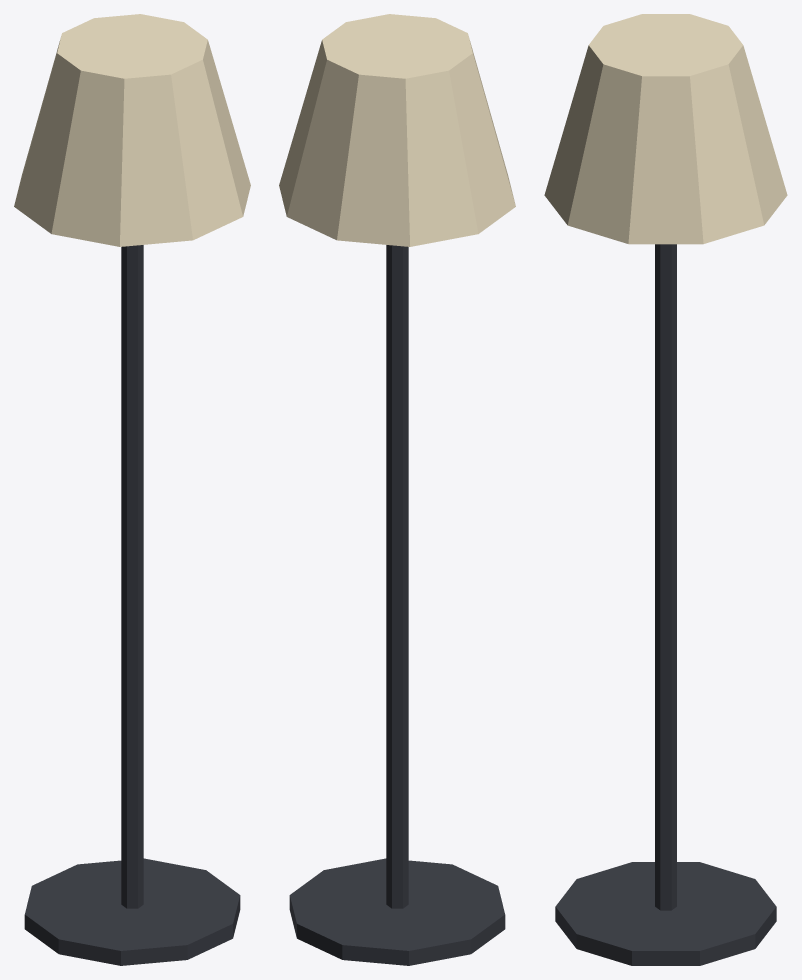
Rendered from floor_lamp.glb.
The picture shows the model from 3 angles, left to right: view 1: azimuth 30°, elevation 25°; view 2: azimuth 150°, elevation 25°; view 3: azimuth 270°, elevation 25°; orthographic projection.
Visible parts, largest first — view 1: floor_lamp; view 2: floor_lamp; view 3: floor_lamp.
Part boxes in pixels (x1,y1,x2,y2): floor_lamp: (14,14,250,965); floor_lamp: (279,14,515,965); floor_lamp: (544,14,787,965).
Size of the model in its own units: 0.4185 by 1.75 by 0.44.
